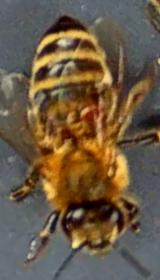varroa_mite: (70, 96, 125, 131)
